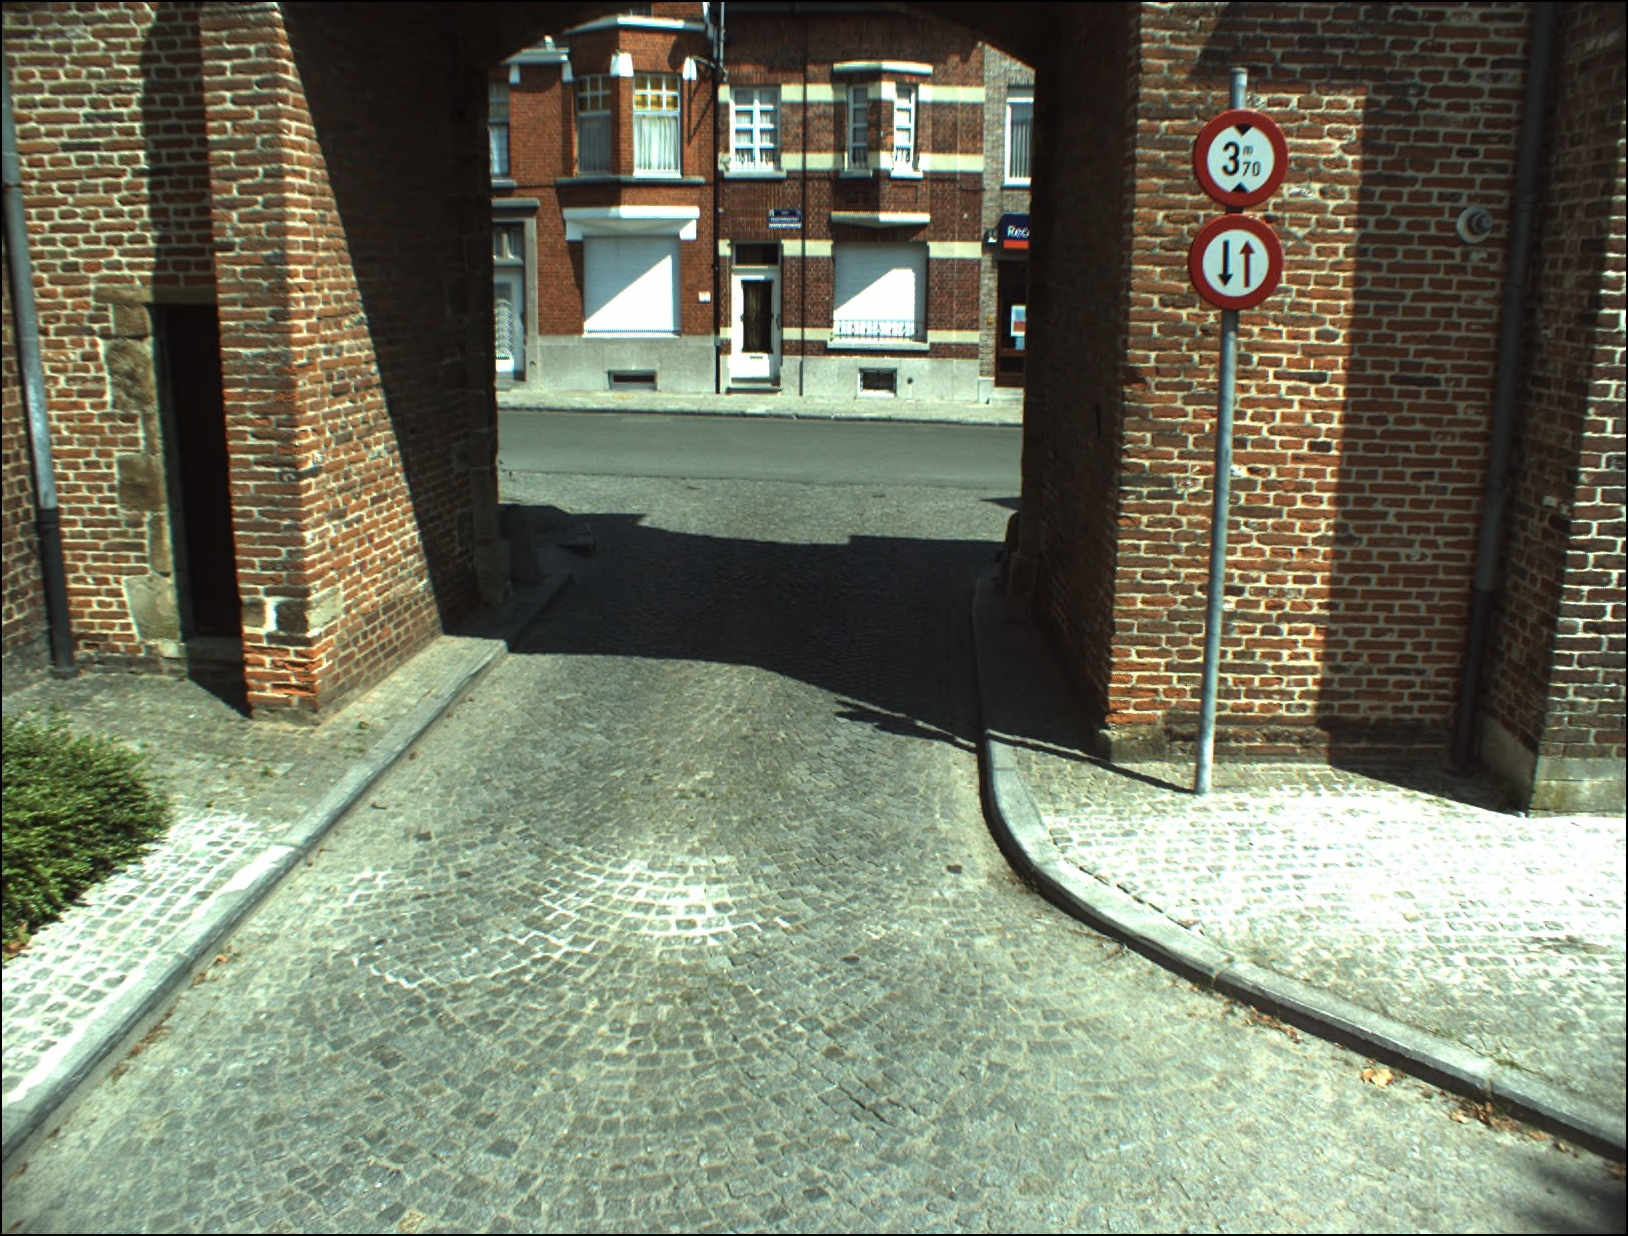roadnarrow2: (1190, 212, 1281, 308)
